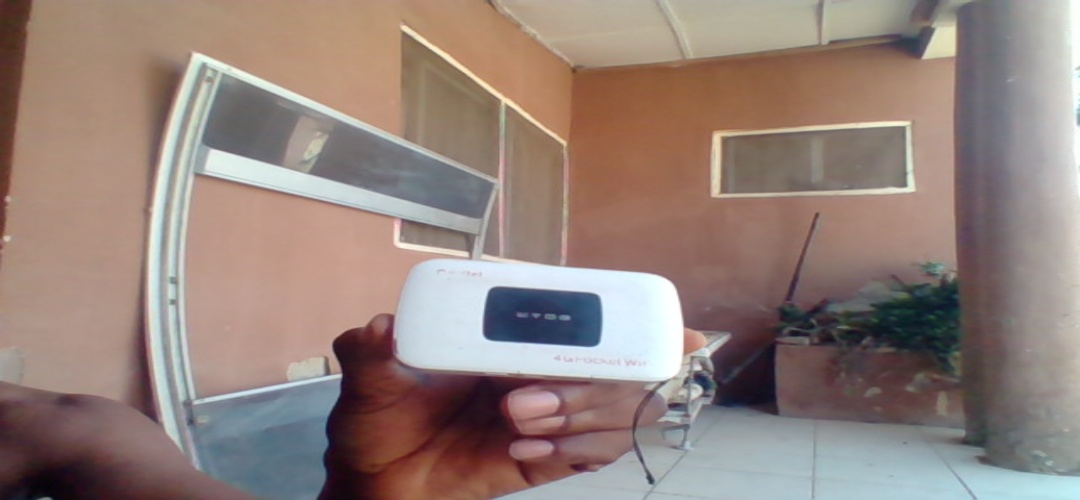mifi: (395, 255, 684, 386)
